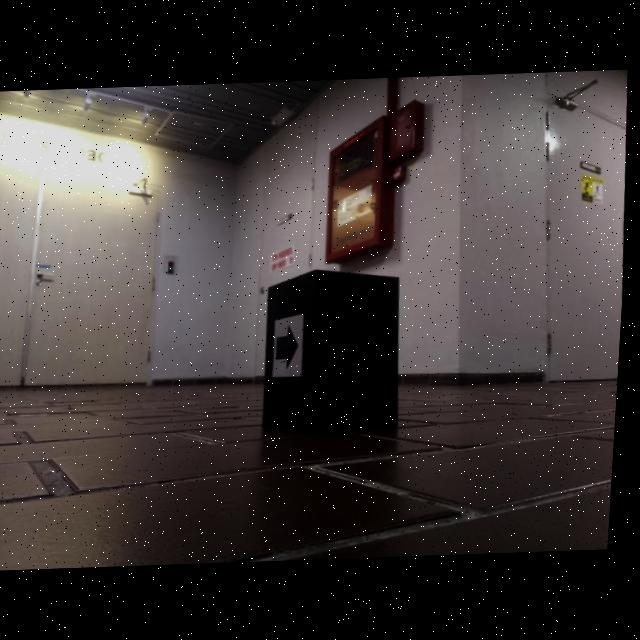RIGHT: (280, 323, 304, 370)
